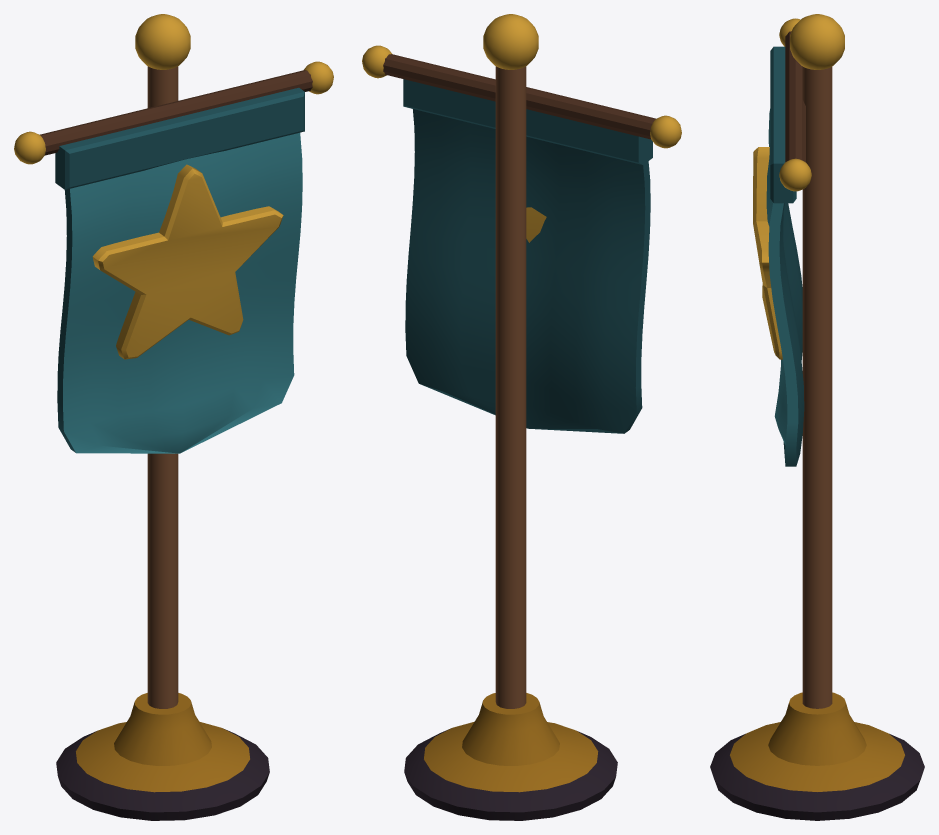
Rendered from Banner_01.glb.
3 views of the same model, side by side, from view 1: azimuth 30°, elevation 25°; view 2: azimuth 150°, elevation 25°; view 3: azimuth 270°, elevation 25° (orthographic).
Visible parts, largest first — view 1: Banner_01; view 2: Banner_01; view 3: Banner_01.
Part boxes in pixels (box(x1,y1,x2,y2)): Banner_01: box(14, 14, 333, 820); Banner_01: box(362, 14, 681, 820); Banner_01: box(710, 14, 924, 820).
Bounding box in the file's own units: 3.32 × 7.65 × 1.96.
